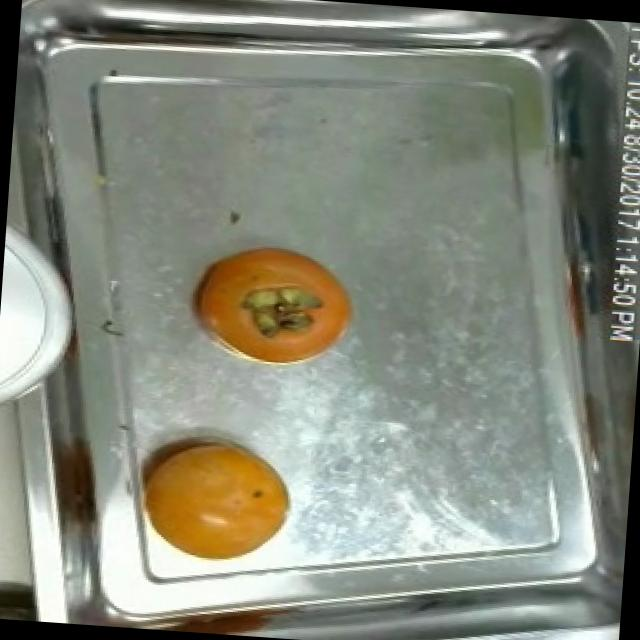Fruit: (114, 417, 308, 575), (178, 230, 368, 372), (0, 569, 53, 622)
